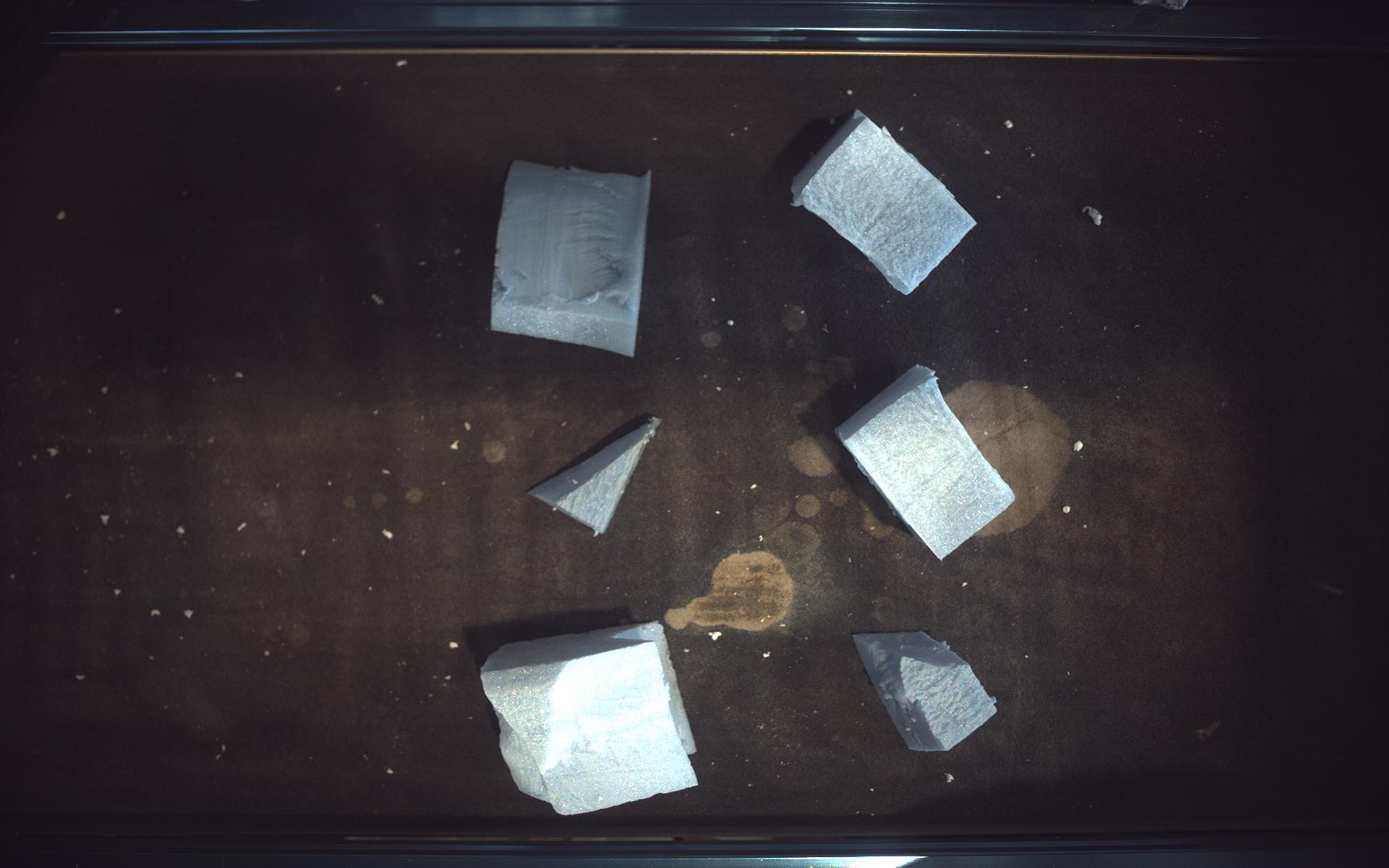foam: (482, 624, 699, 817), (838, 365, 1016, 560), (793, 110, 977, 294), (491, 160, 651, 357), (854, 634, 998, 753), (530, 418, 662, 535)
